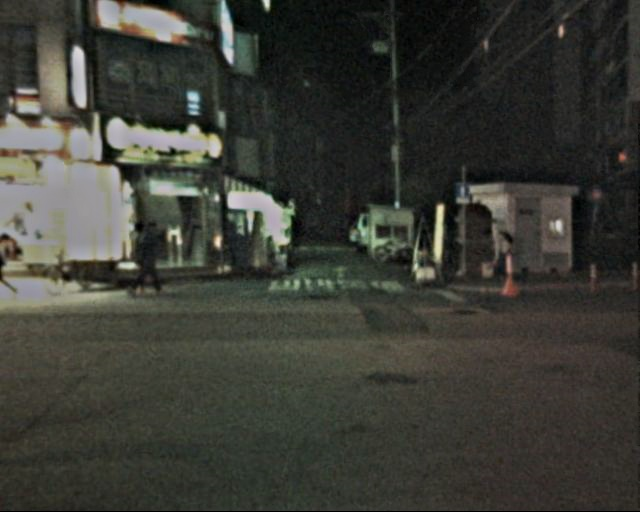person: (130, 216, 168, 300), (483, 227, 512, 288)
